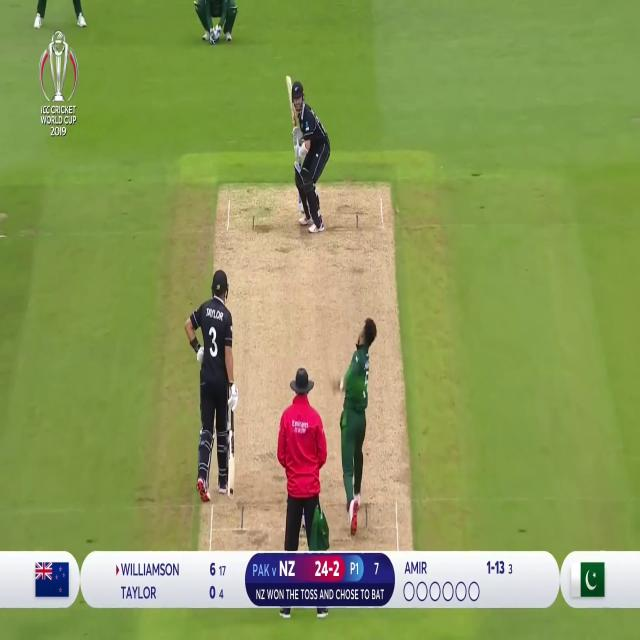bat: (286, 76, 296, 130), (228, 427, 235, 498)
toe: (228, 491, 234, 497), (285, 75, 291, 79)
